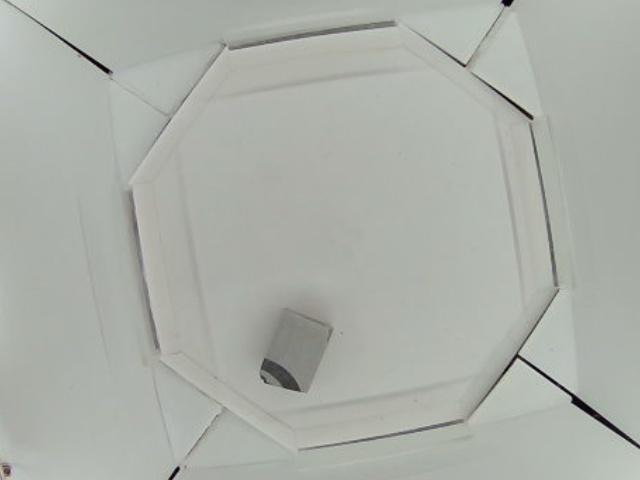China: (259, 309, 331, 391)
